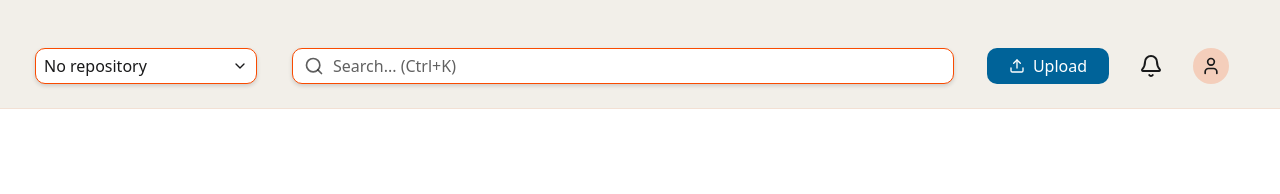
Test: TopBar icon-only controls (#236) › still opens the account menu on click (behavior unchanged)
The image size is (1280, 194).
Click the button with test id "user-menu-trigger" at (1211,66), box [1193,48,1229,84]
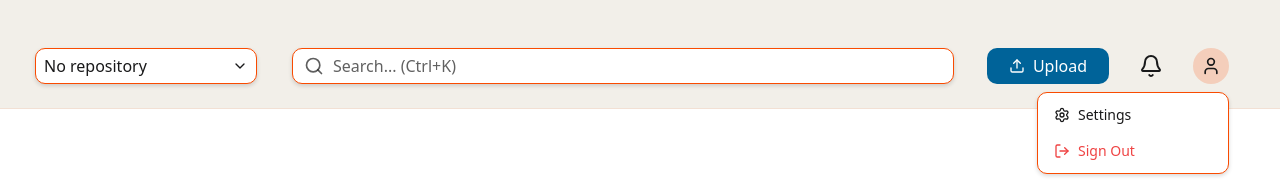
Now the button "Sign Out" is shown, box [1042,133,1224,169]
